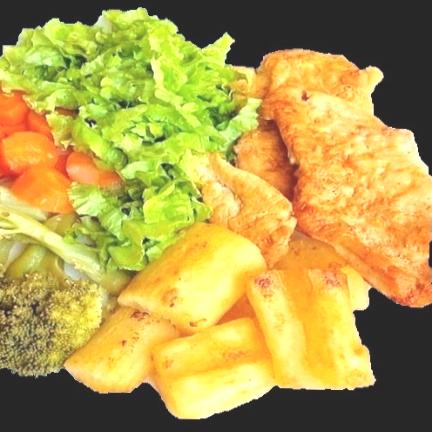broccoli: (0, 241, 129, 378)
carrot: (0, 82, 120, 215)
cassava: (62, 223, 376, 422)
chicken: (191, 49, 432, 304)
salad: (0, 11, 262, 274)
